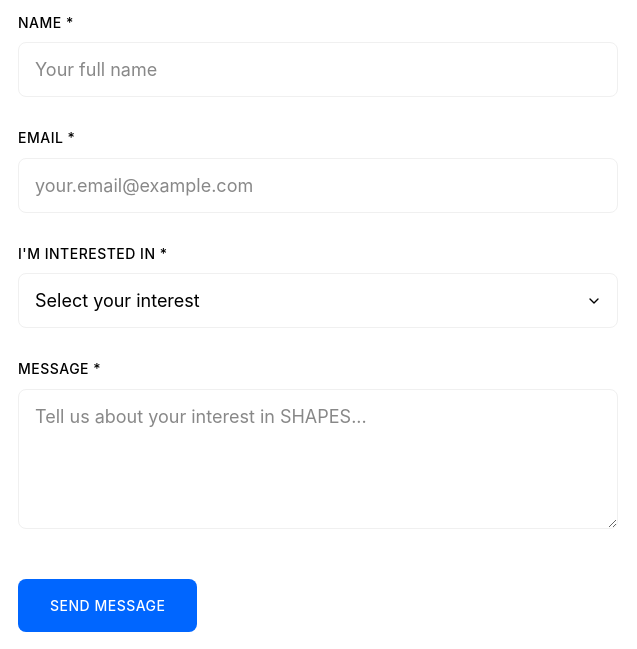
Test: ContactForm › shows loading state during form submission
Fill out the form with valid data
Type "John Doe" into the field labelled "Name *".
click(318, 70); type("John Doe")  # box left=18, top=42, right=618, bottom=97
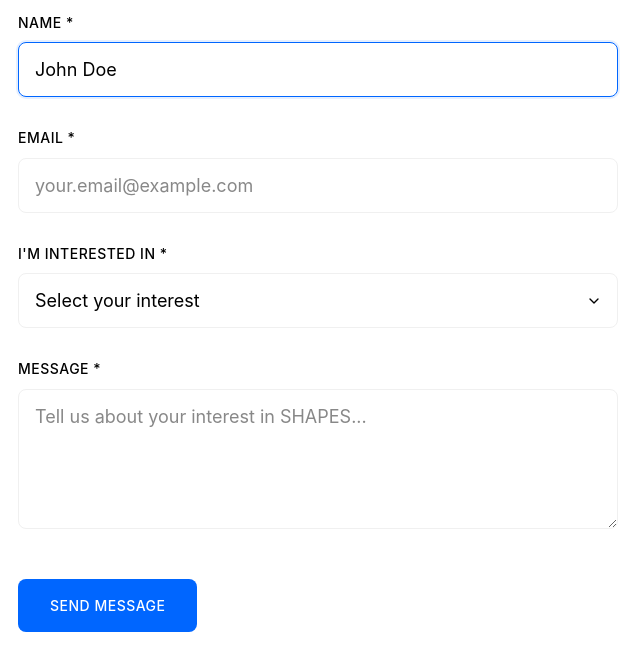
Type "john@example.com" into the field labelled "Email *".
click(318, 185); type("john@example.com")  # box left=18, top=158, right=618, bottom=213
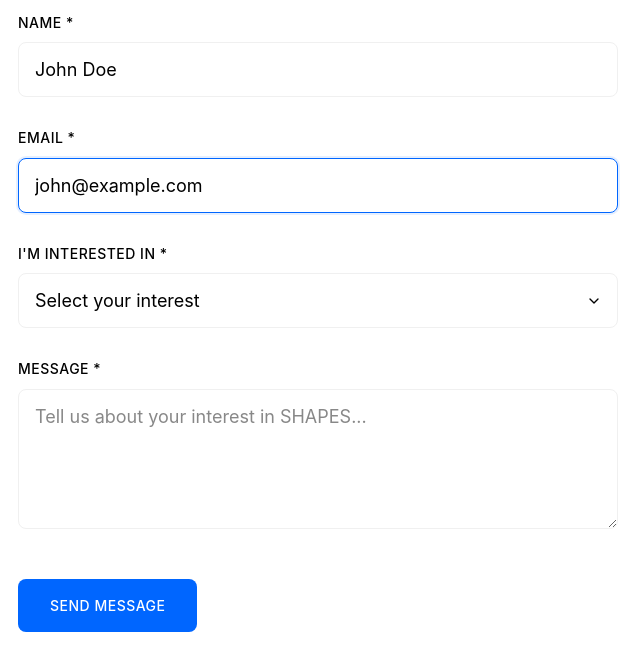
Select "Joining a workshop" in the dropdown labelled "I'm interested in *" at [318, 301], box left=18, top=273, right=618, bottom=328
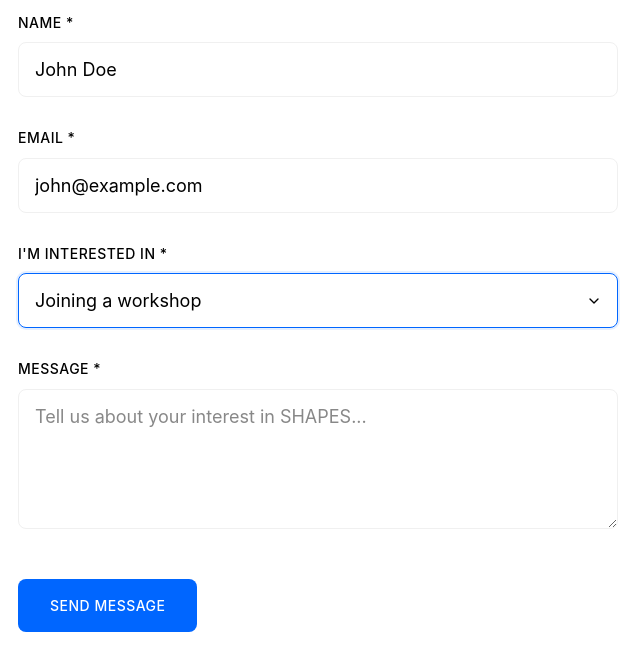
Type "I am interested in joining a workshop." into the text box labelled "Message *".
click(318, 459); type("I am interested in joining a workshop.")  # box left=18, top=389, right=618, bottom=529
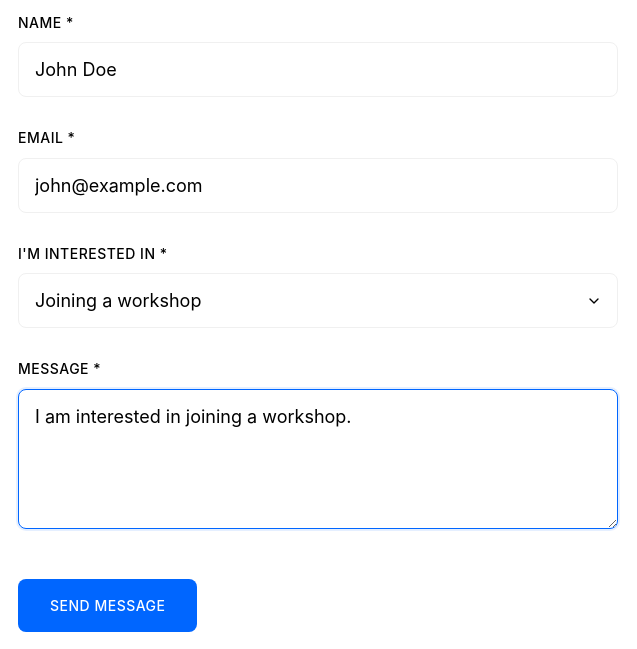
Click the button "Send Message".
click(108, 605)  # box left=18, top=579, right=198, bottom=632
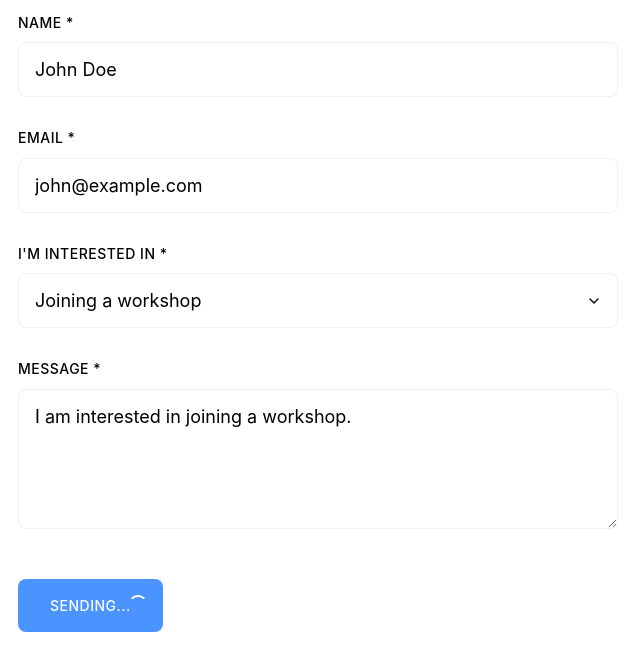
Expected: the button "Sending..." is disabled, left=18, top=579, right=163, bottom=632
